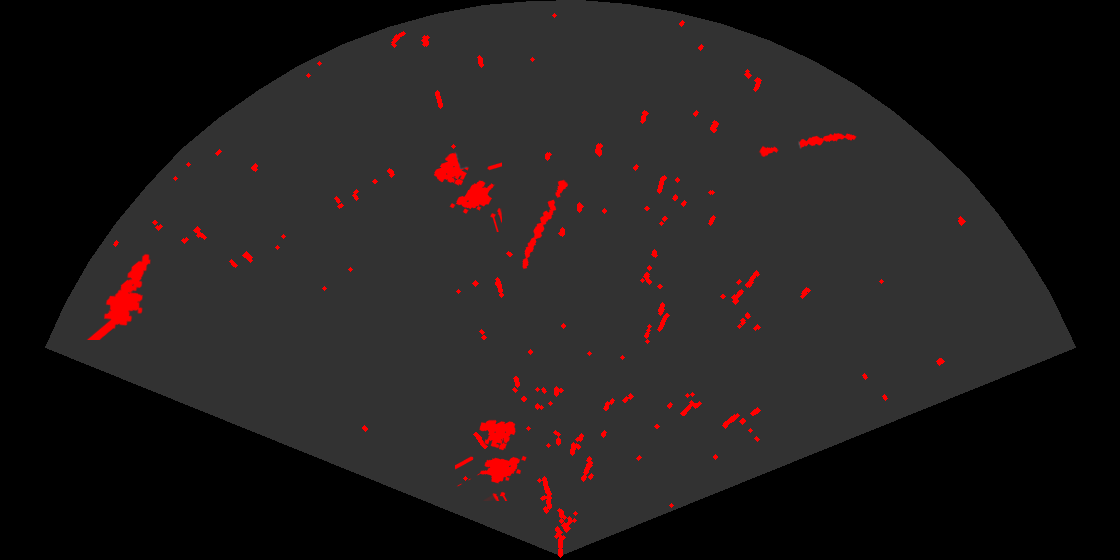cage: (455, 418, 528, 501), (432, 151, 502, 232)
chain: (521, 178, 570, 270), (757, 131, 858, 158)
frogman: (85, 252, 152, 340)
